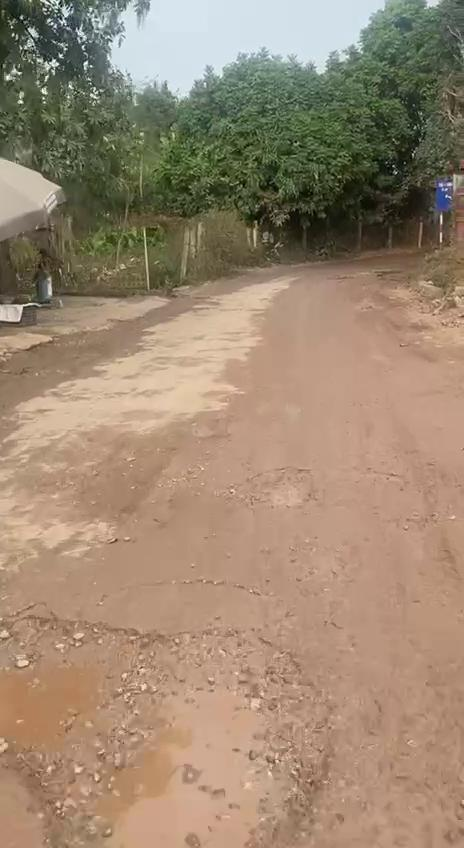pothole: (0, 604, 334, 848), (232, 464, 322, 512)
